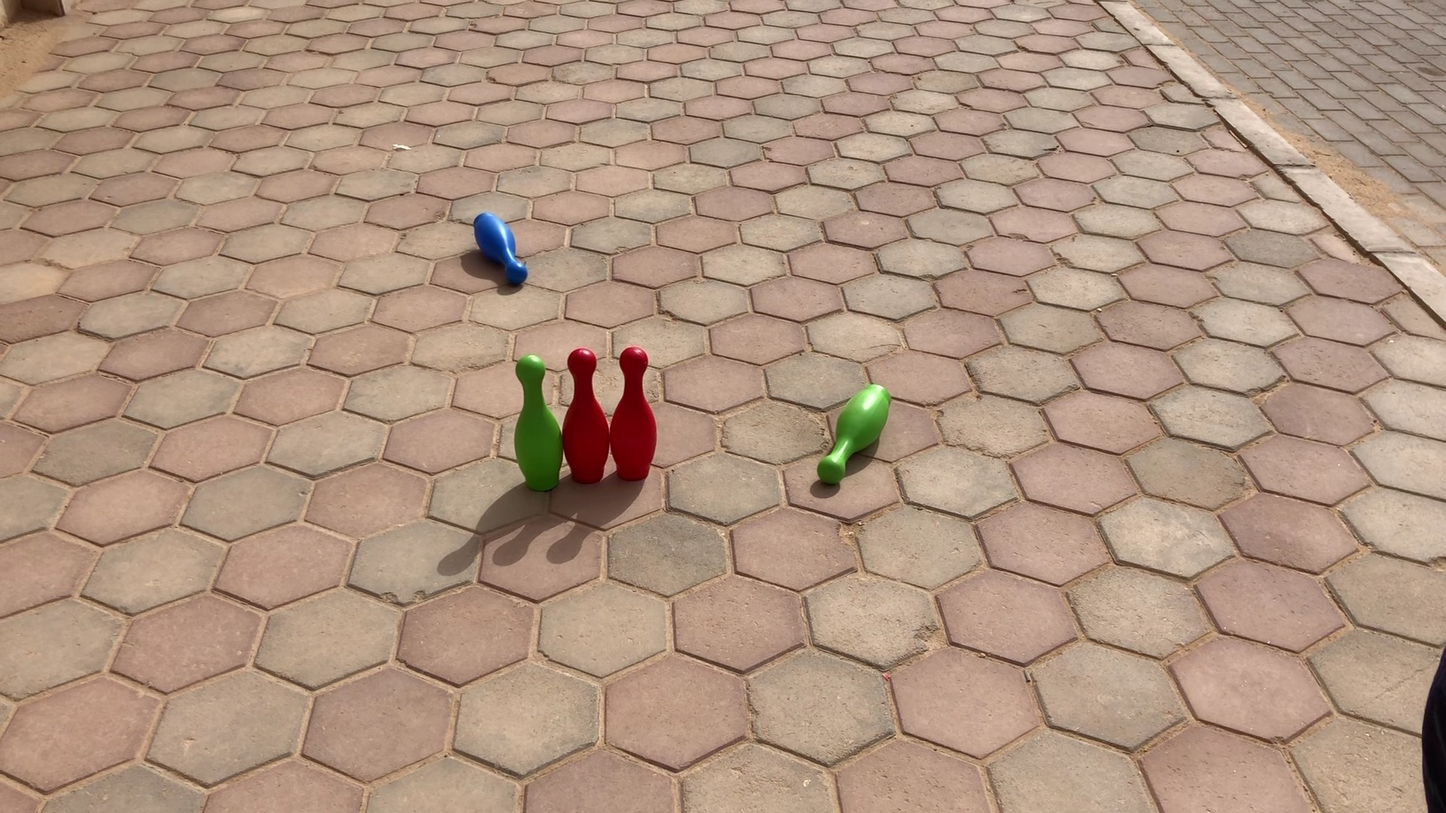pin: (819, 386, 886, 483), (518, 353, 565, 489), (564, 349, 611, 484), (610, 347, 656, 480), (474, 214, 530, 284)
